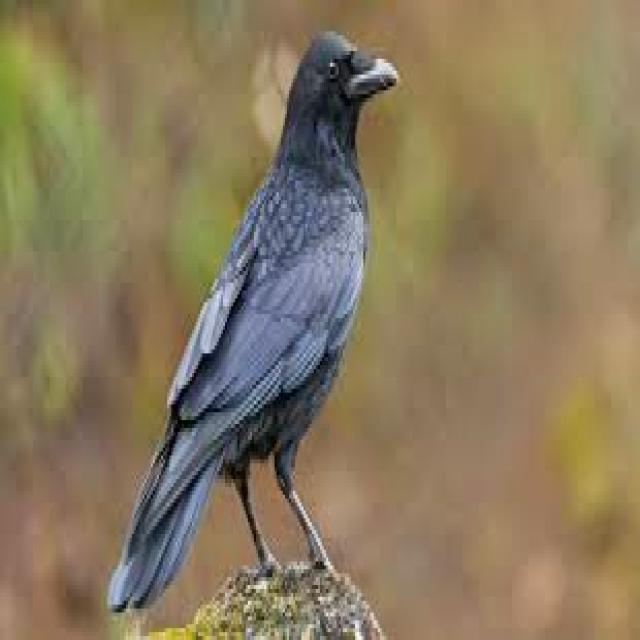crow: (109, 31, 396, 605)
